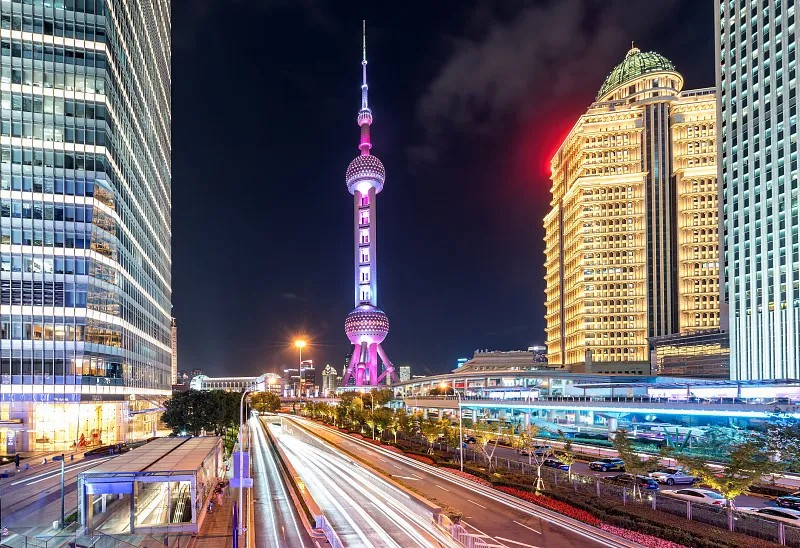Oriental: (343, 19, 400, 387)
